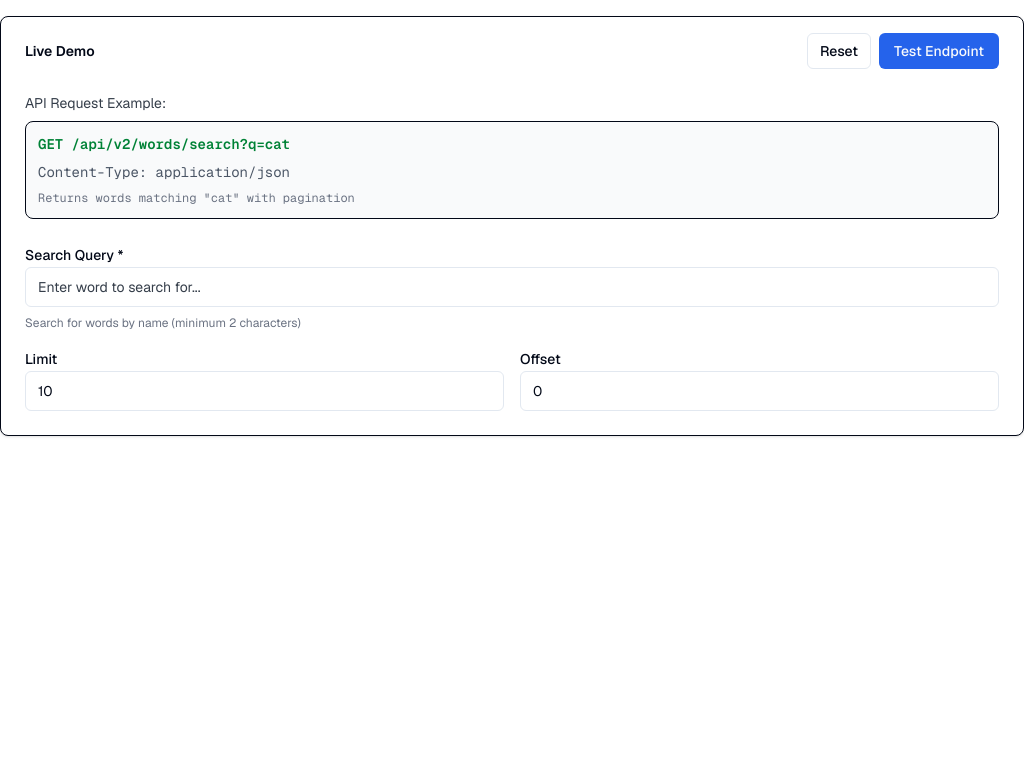
Scenario: Word CRUD Integration Flow › should complete word search flow
# Fill in search query
In the field labelled "Search Query *": (512, 287) [25, 267, 999, 307], type "apple"
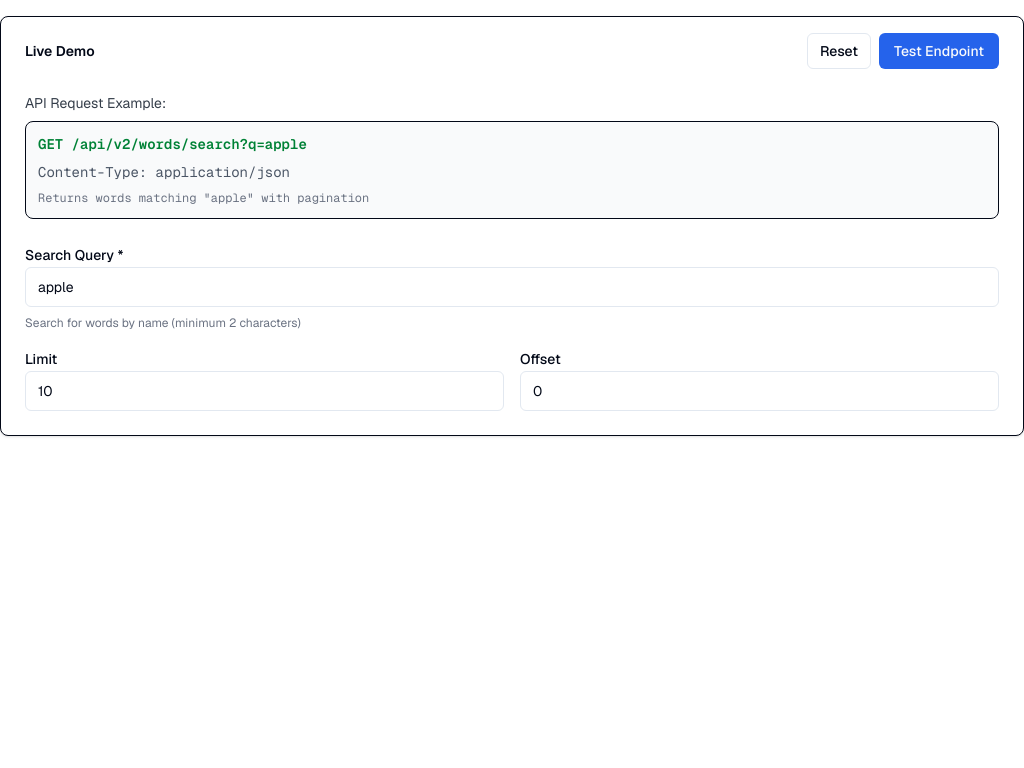
# Submit search
Click the button "Test Endpoint": (939, 51) [879, 33, 999, 69]
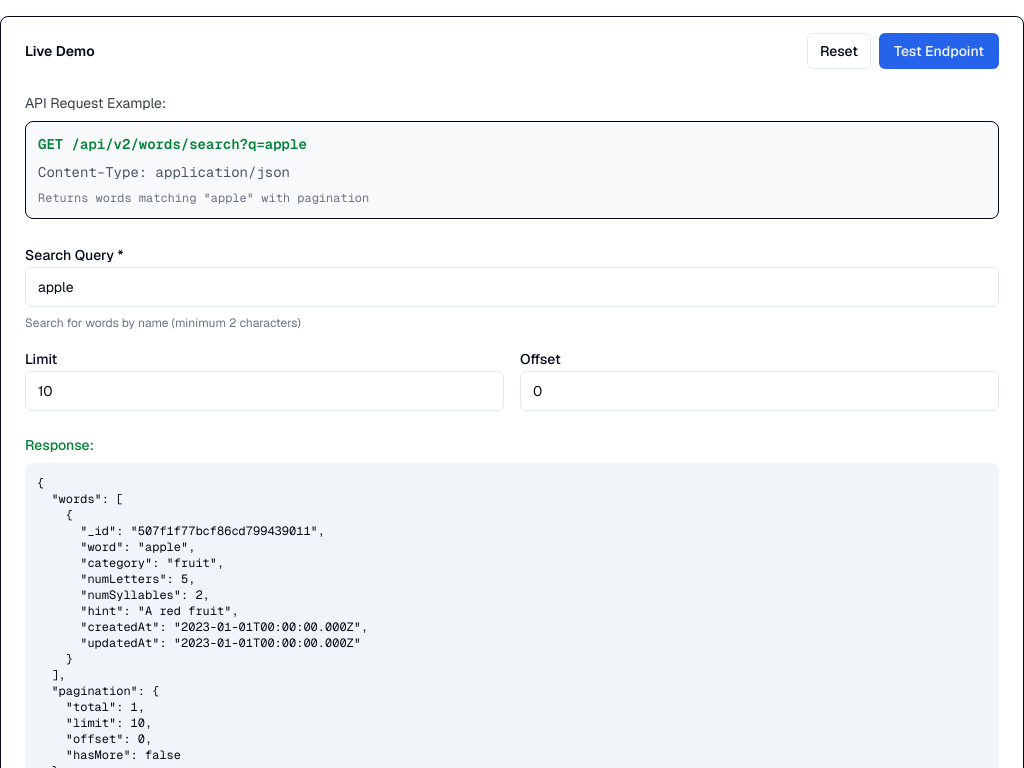
Now the heading "Response:" is shown, box [25, 435, 94, 455]
